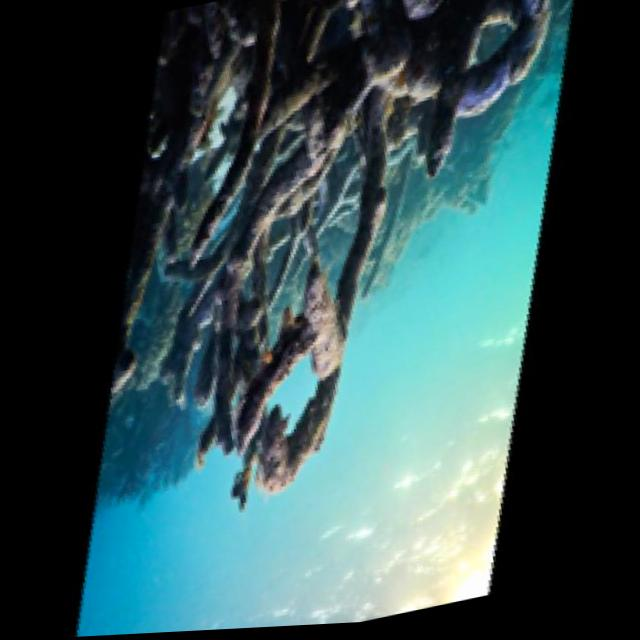Dead Coral: (74, 0, 535, 536)
